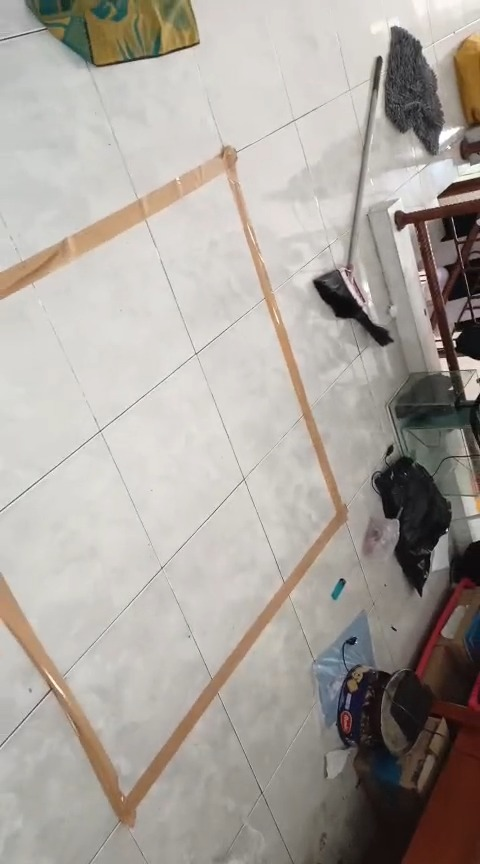floor marking: (2, 147, 347, 823)
